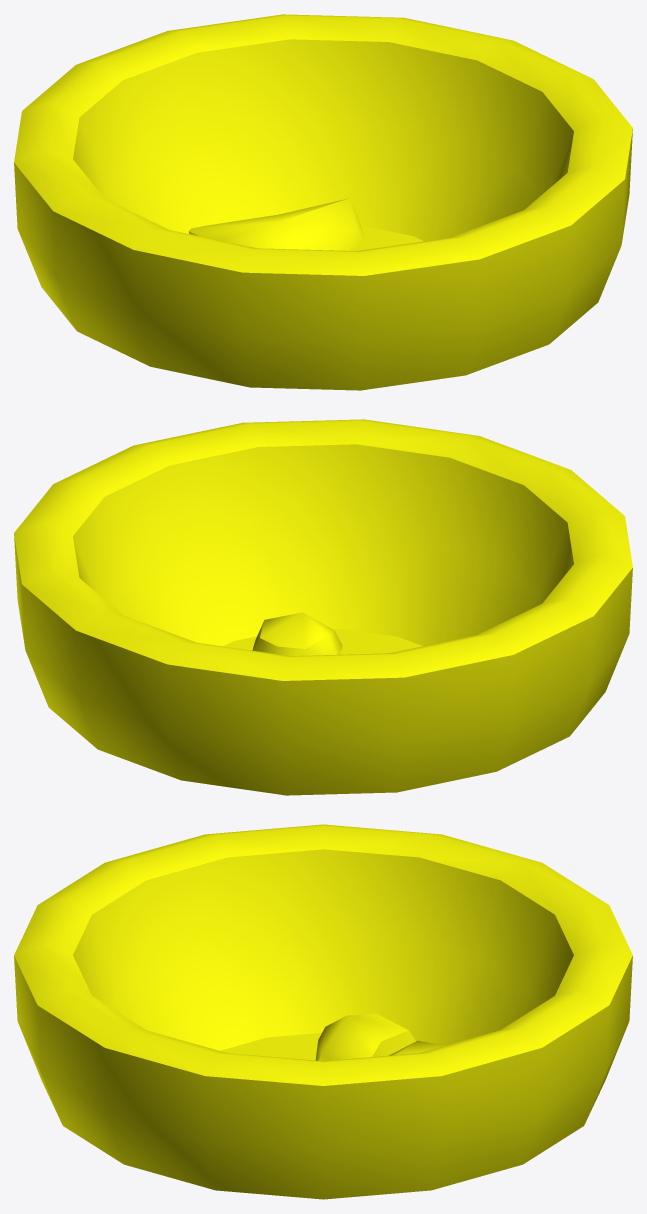
File: kaykit-bowl-dirty.glb
The picture shows the model from 3 angles, top to bottom: view 1: azimuth 30°, elevation 25°; view 2: azimuth 150°, elevation 25°; view 3: azimuth 270°, elevation 25°; orthographic projection.
Visible parts, largest first — view 1: bowl_dirty; view 2: bowl_dirty; view 3: bowl_dirty.
Boxes of the visible parts, x1,y1,x2,y2 form: bowl_dirty: (14,14,632,390); bowl_dirty: (14,419,632,795); bowl_dirty: (14,824,632,1199).
Size of the model in its own units: 0.95 by 0.3 by 0.95.
